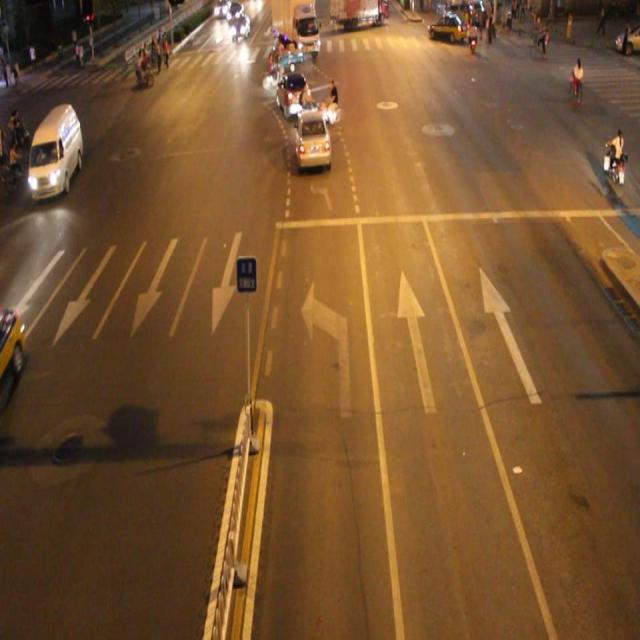car: (293, 108, 332, 171), (277, 71, 309, 115)
truck: (27, 104, 83, 198)
